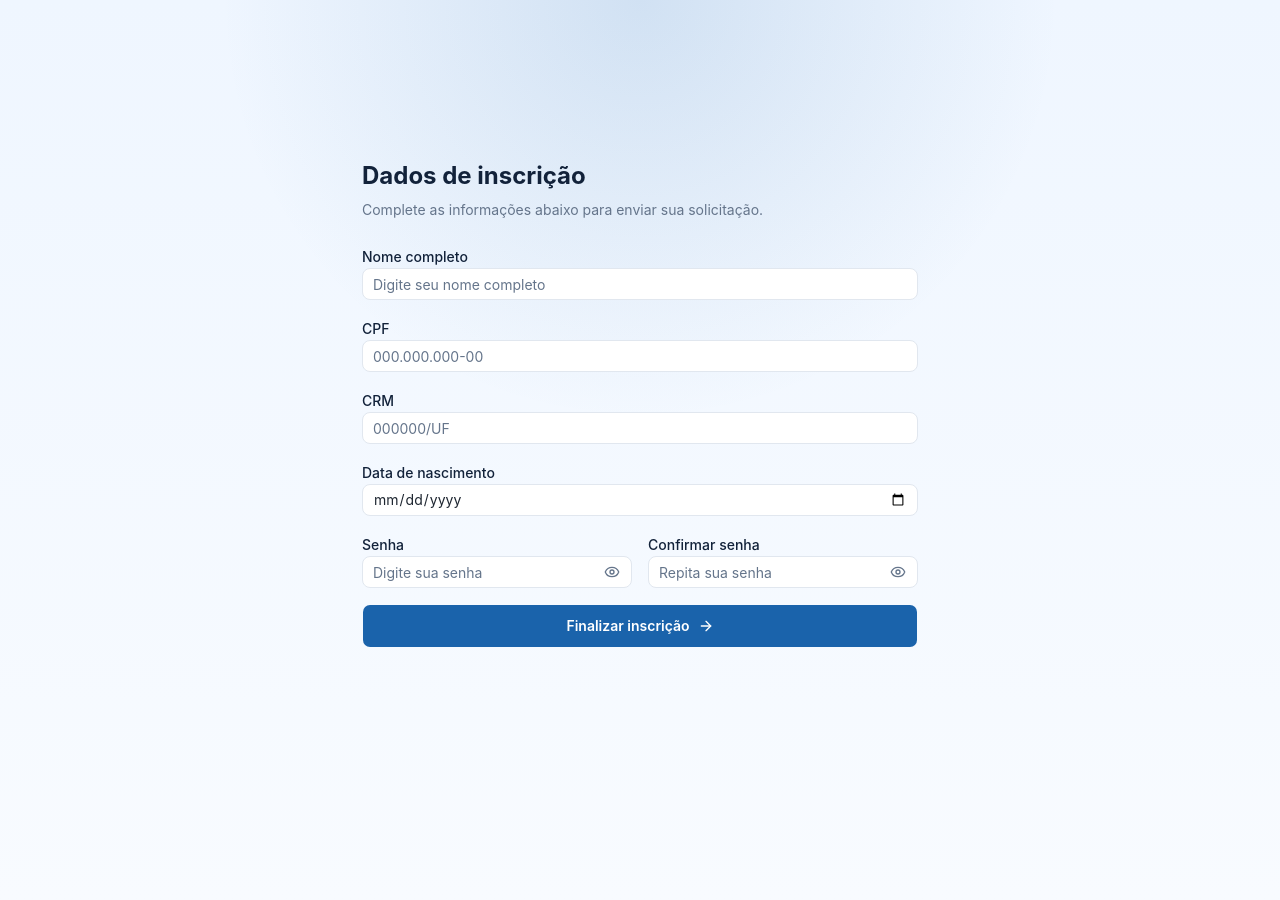
Test case: Inscricao › envia a inscrição com os dados corretos e exibe a tela de sucesso
The image size is (1280, 900).
Type "Dra. Ana Silva" into the field with placeholder "Digite seu nome completo". click: (640, 284)
box: x1=362 y1=268 x2=918 y2=300
Type "12345678900" into the field with placeholder "000.000.000-00". click: (640, 356)
box: x1=362 y1=340 x2=918 y2=372
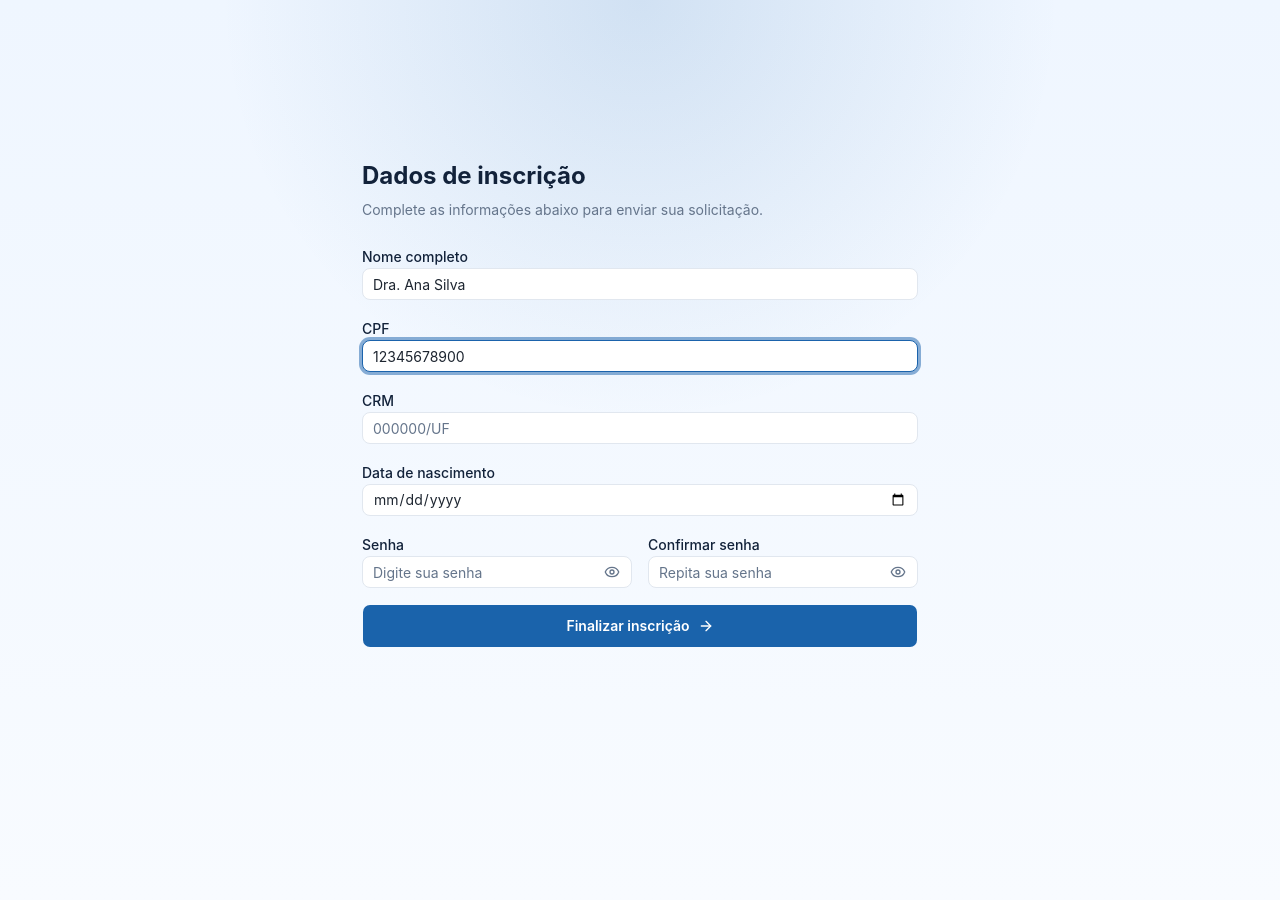
Type "123456DF" into the field with placeholder "000000/UF". click: (640, 428)
box: x1=362 y1=412 x2=918 y2=444
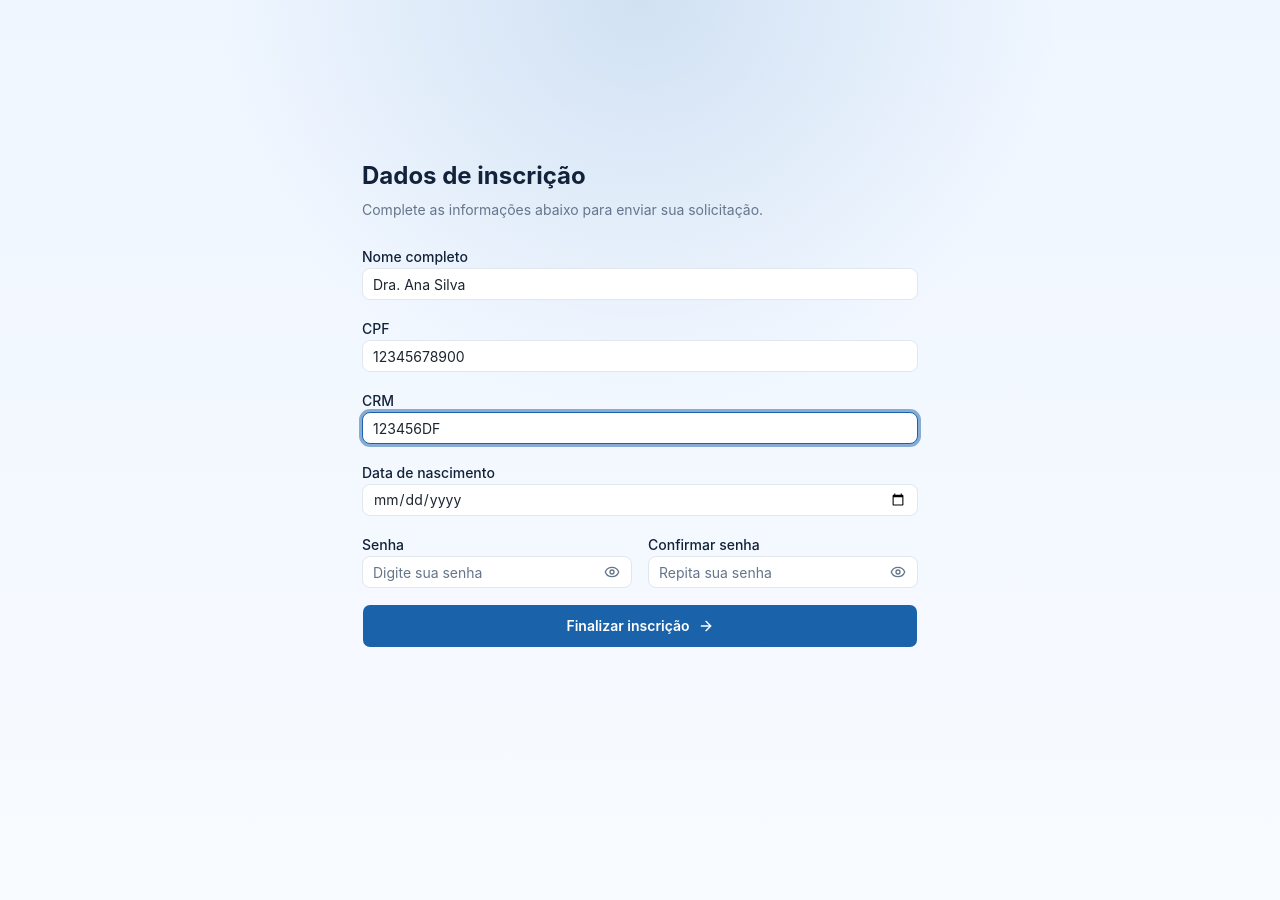
Type "1990-01-01" into the date field. click: (640, 500)
box: x1=362 y1=484 x2=918 y2=516
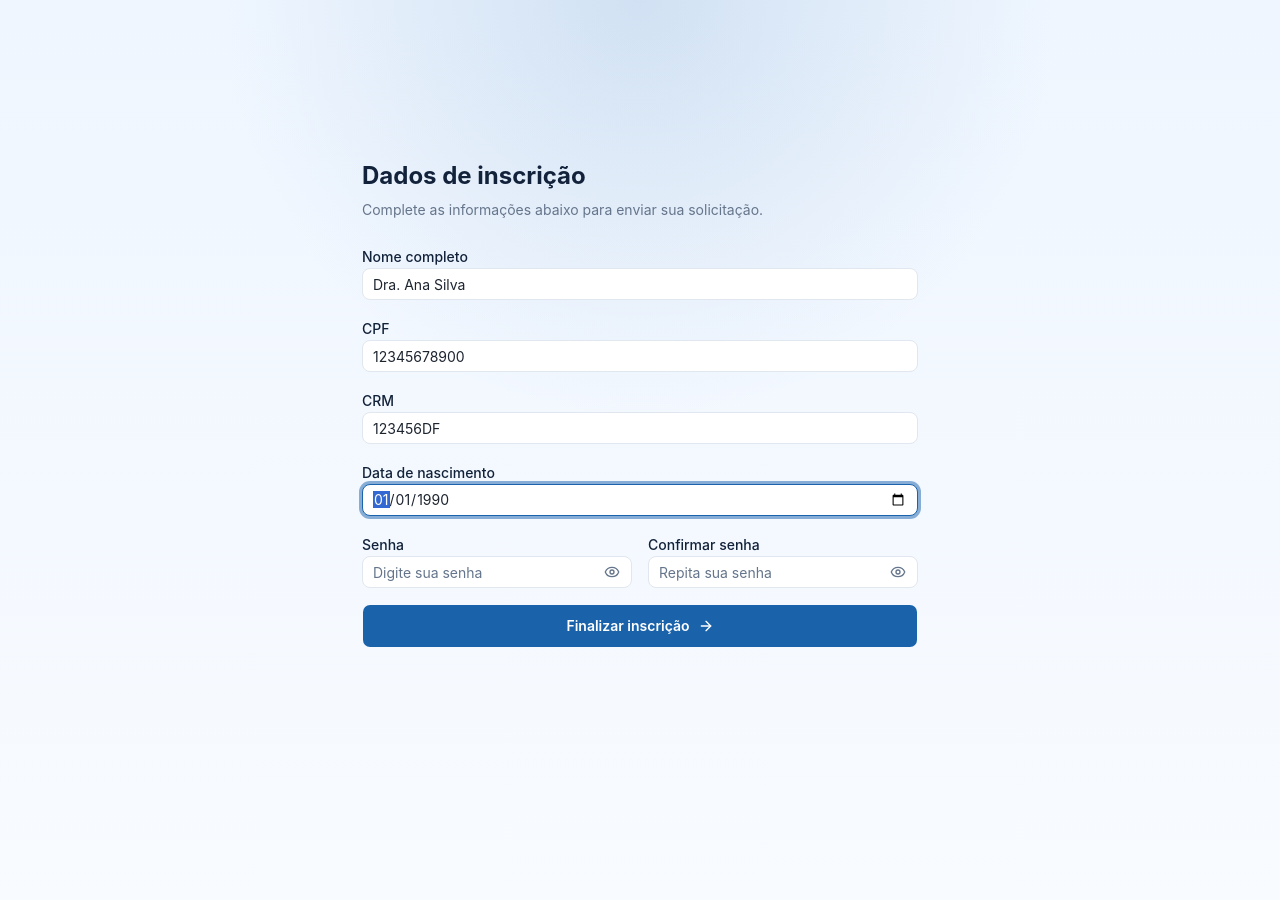
Type "senha1234" into the password field with placeholder "Digite sua senha". click: (497, 572)
box: x1=362 y1=556 x2=632 y2=588
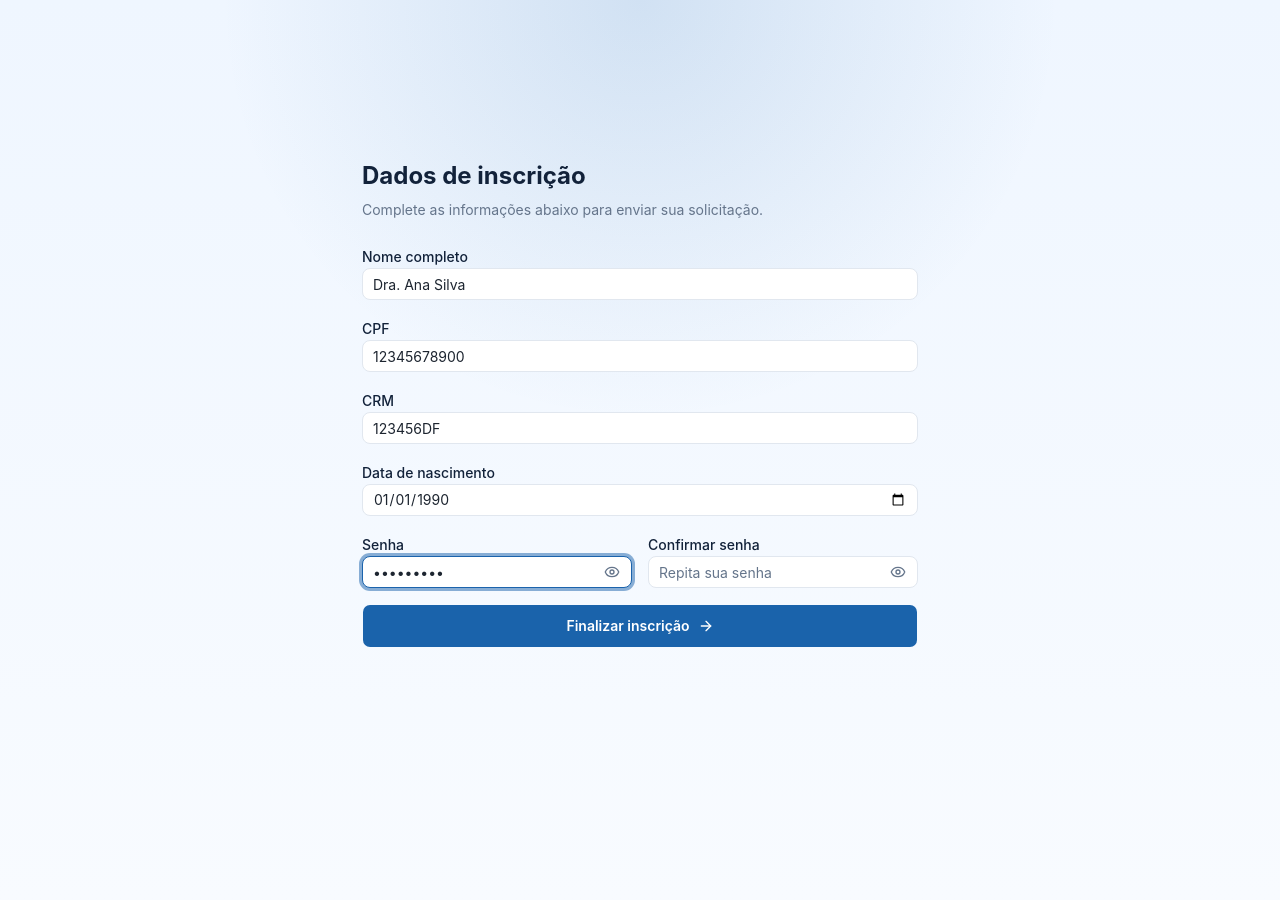
Type "senha1234" into the password field with placeholder "Repita sua senha". click: (783, 572)
box: x1=648 y1=556 x2=918 y2=588
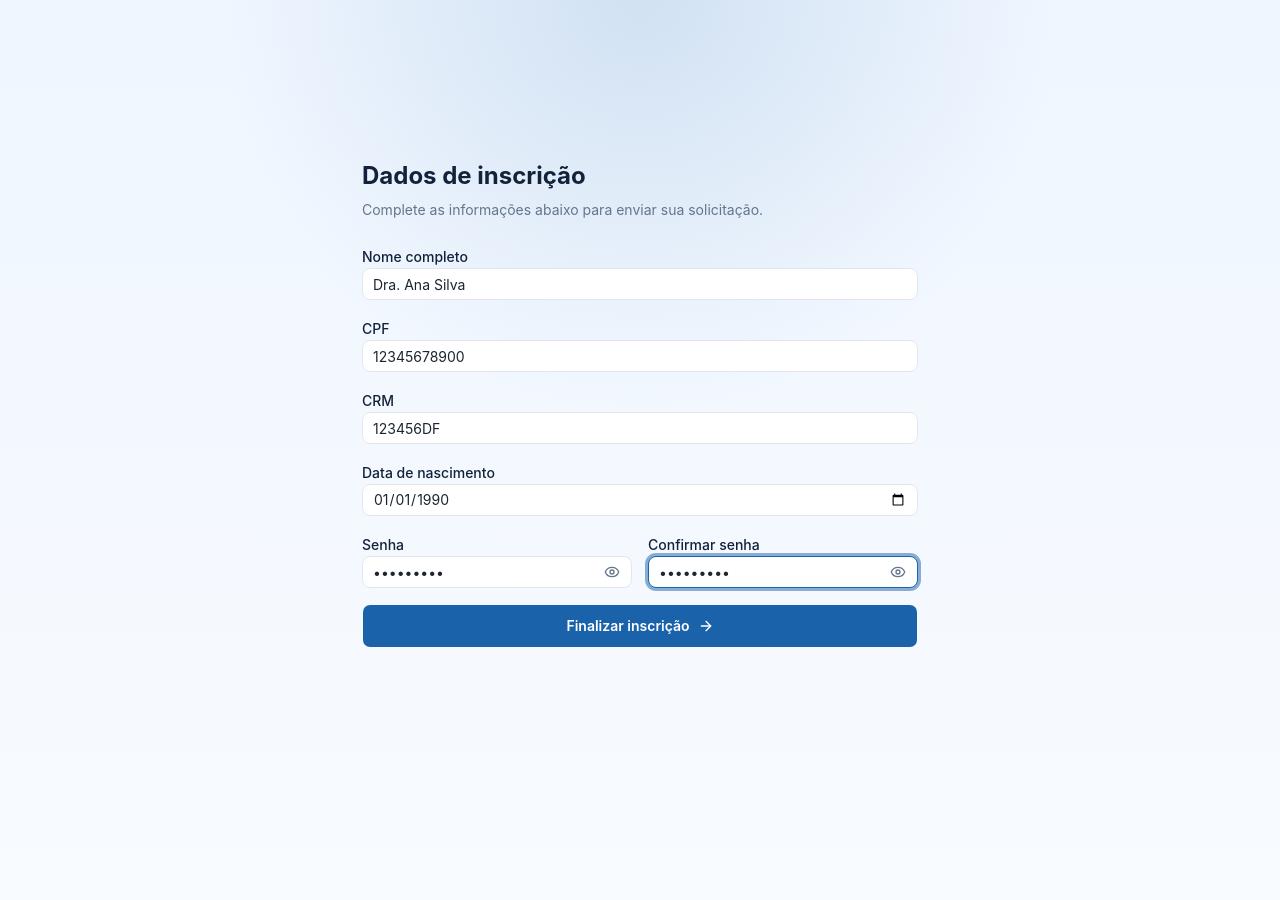
Click the button "Finalizar inscrição". click: (640, 626)
box: x1=362 y1=604 x2=918 y2=648
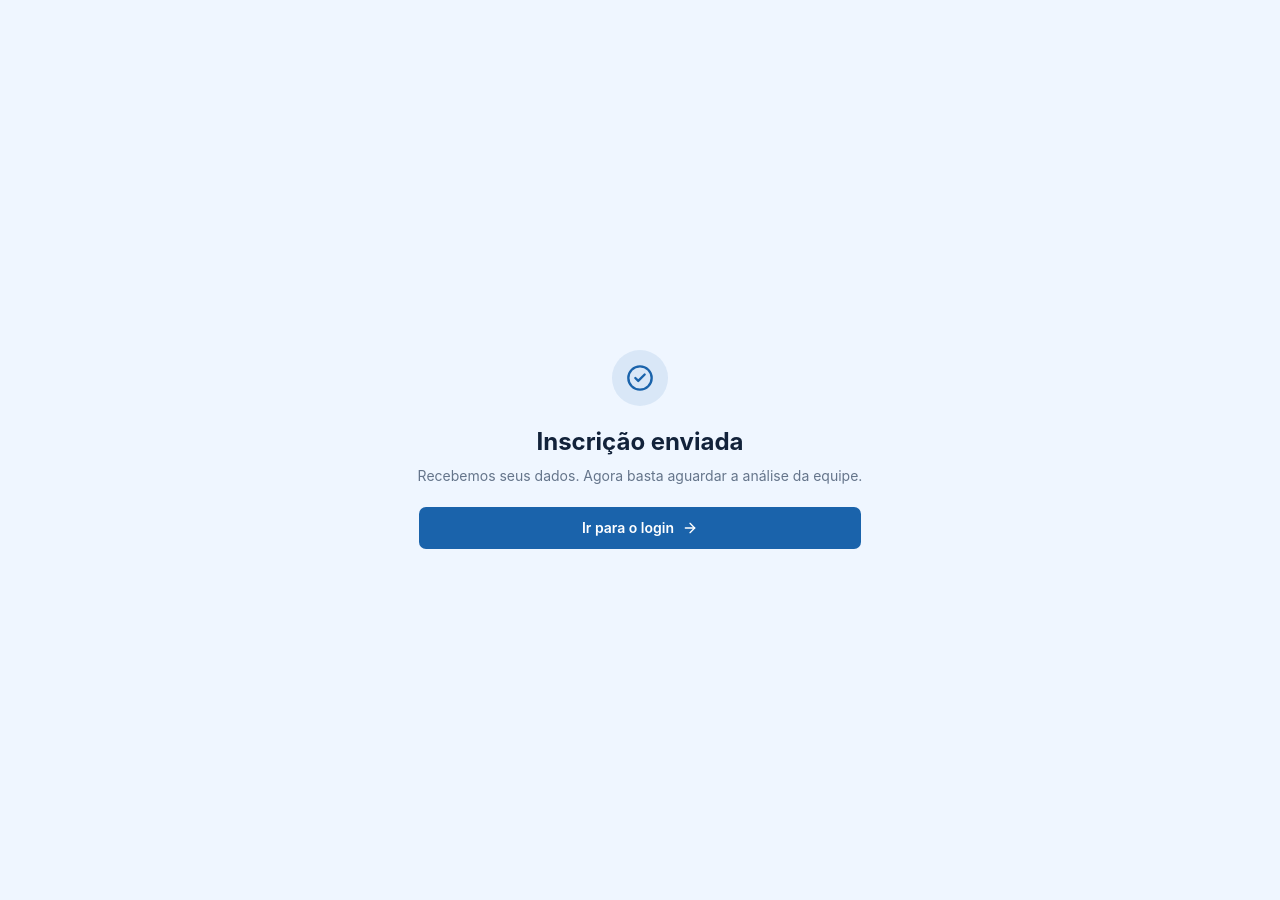
Now the heading "Inscrição enviada" is shown, box x1=536 y1=427 x2=744 y2=456
